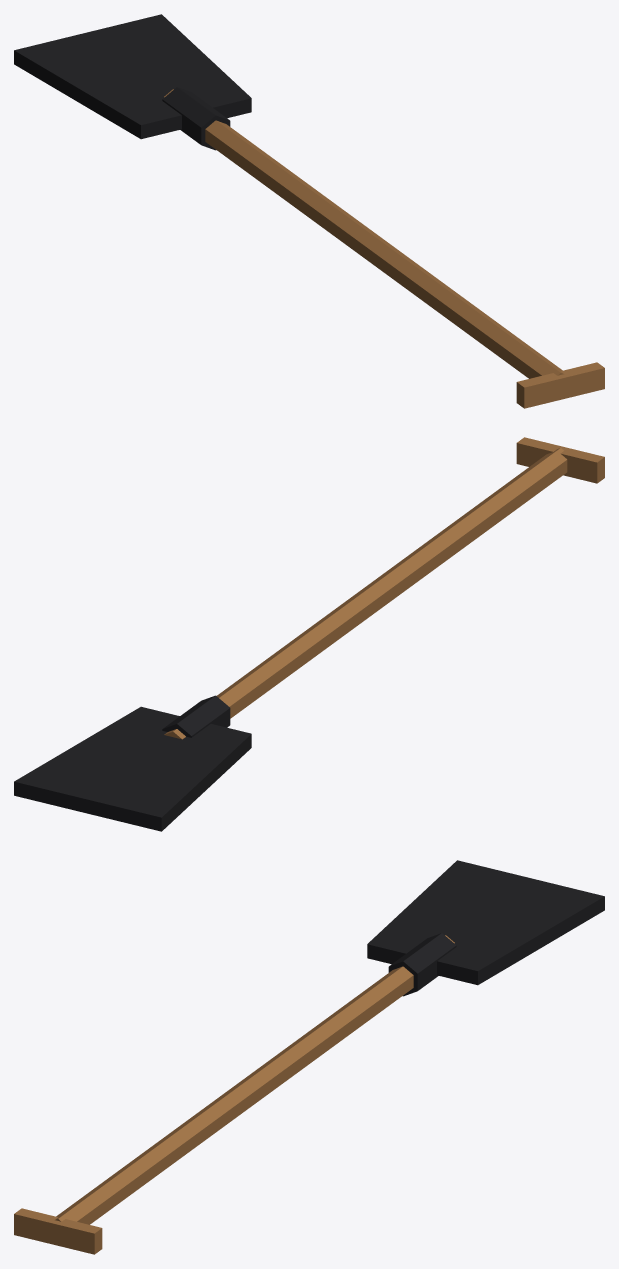
File: SM_Shovel.obj
3 views of the same model, one above another, from view 1: azimuth 30°, elevation 25°; view 2: azimuth 150°, elevation 25°; view 3: azimuth 330°, elevation 25° (orthographic).
Parts seen in each view (by area): view 1: SM_Shovel; view 2: SM_Shovel; view 3: SM_Shovel.
Boxes of the visible parts, x1,y1,x2,y2 form: SM_Shovel: [14, 14, 604, 408]; SM_Shovel: [14, 437, 604, 831]; SM_Shovel: [14, 860, 604, 1254].
Bounding box in the file's own units: 0.22 × 0.05 × 1.23.
